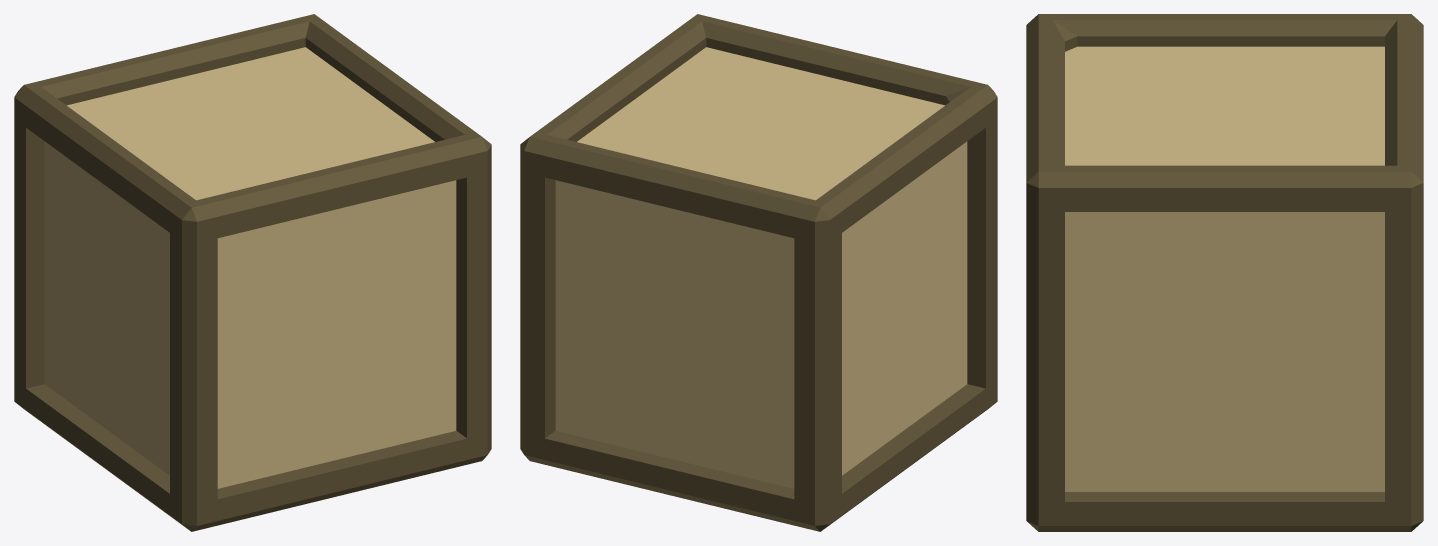
The model's file is SM_WodenBox.fbx.
3 views of the same model, side by side, from view 1: azimuth 30°, elevation 25°; view 2: azimuth 150°, elevation 25°; view 3: azimuth 270°, elevation 25° (orthographic). The views are drawn at different scales.
Visible parts, largest first — view 1: Cube.038; view 2: Cube.038; view 3: Cube.038.
Boxes of the visible parts, box(x1,y1,x2,y2) form: Cube.038: box(14, 14, 491, 531); Cube.038: box(520, 14, 997, 531); Cube.038: box(1026, 14, 1423, 531).
Bounding box in the file's own units: 95.42 × 95.42 × 95.42.
